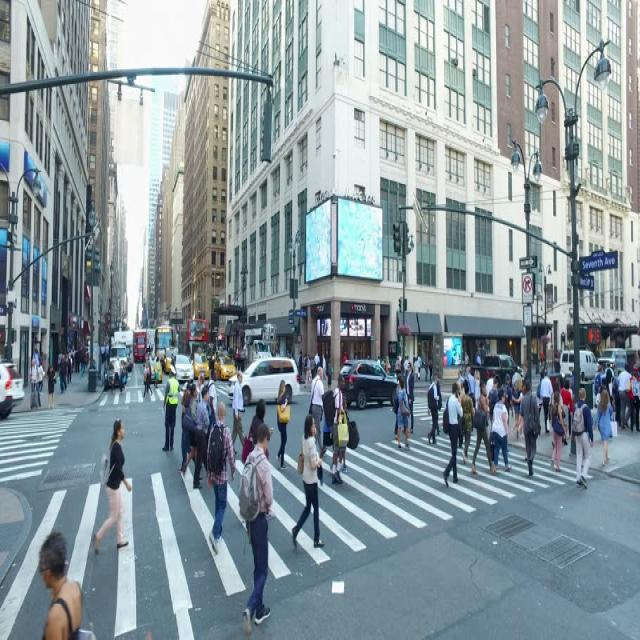body: (237, 420, 276, 639), (91, 416, 133, 555), (37, 529, 84, 640), (205, 400, 237, 557), (291, 414, 326, 550), (469, 377, 499, 476), (441, 379, 463, 489), (240, 396, 275, 465), (571, 386, 594, 490), (182, 382, 204, 482), (592, 387, 618, 469), (488, 385, 512, 472), (193, 382, 211, 490), (160, 363, 181, 452), (330, 374, 345, 486), (307, 366, 325, 454), (550, 389, 568, 474), (181, 388, 198, 473), (275, 378, 290, 471), (230, 368, 245, 456), (486, 373, 502, 455), (460, 383, 475, 464), (617, 360, 633, 432), (396, 374, 411, 450), (426, 370, 440, 446), (338, 396, 351, 475), (428, 369, 443, 436), (626, 361, 639, 435), (512, 382, 528, 442), (540, 366, 554, 434), (560, 378, 574, 446), (392, 373, 406, 440), (499, 371, 514, 429), (451, 380, 463, 449), (404, 361, 415, 435), (28, 356, 42, 412), (207, 367, 219, 425), (318, 415, 333, 460), (611, 368, 622, 429), (466, 365, 476, 432), (511, 373, 521, 440), (45, 361, 57, 411), (569, 367, 579, 424), (109, 352, 122, 395), (535, 368, 545, 419), (142, 358, 154, 398), (567, 378, 574, 442), (58, 353, 68, 395), (550, 380, 564, 409), (206, 338, 231, 354), (303, 352, 313, 389), (319, 348, 329, 385), (550, 381, 563, 408), (594, 363, 604, 397), (32, 344, 40, 384), (118, 359, 127, 393), (510, 366, 522, 390), (38, 360, 46, 395), (461, 349, 470, 380), (603, 361, 615, 384), (474, 349, 482, 382), (198, 372, 206, 404), (393, 354, 402, 382), (326, 350, 332, 390), (66, 351, 73, 385), (239, 345, 246, 376), (62, 352, 68, 388), (313, 349, 321, 376), (146, 360, 152, 395), (154, 356, 160, 389), (73, 346, 80, 374), (487, 372, 494, 400), (298, 349, 304, 380), (411, 349, 417, 380), (285, 347, 292, 373), (183, 383, 190, 409), (80, 347, 86, 377), (342, 349, 348, 379), (455, 367, 465, 385), (194, 346, 203, 366), (309, 356, 316, 381), (416, 352, 422, 381), (423, 352, 429, 381), (233, 344, 239, 372), (413, 354, 420, 378), (427, 354, 433, 382), (70, 344, 75, 375), (209, 355, 215, 380), (274, 348, 280, 373), (270, 347, 276, 372), (376, 353, 381, 383), (450, 351, 460, 366), (163, 352, 169, 375), (57, 349, 63, 371), (100, 341, 105, 367), (380, 355, 385, 381), (85, 346, 90, 371), (104, 339, 109, 364), (302, 351, 306, 381), (38, 348, 44, 367), (579, 366, 586, 382), (74, 338, 88, 346), (403, 353, 409, 371), (539, 347, 544, 368), (385, 359, 391, 376), (170, 352, 176, 368), (148, 340, 151, 356), (150, 341, 153, 356), (353, 353, 357, 359), (366, 352, 369, 359)
